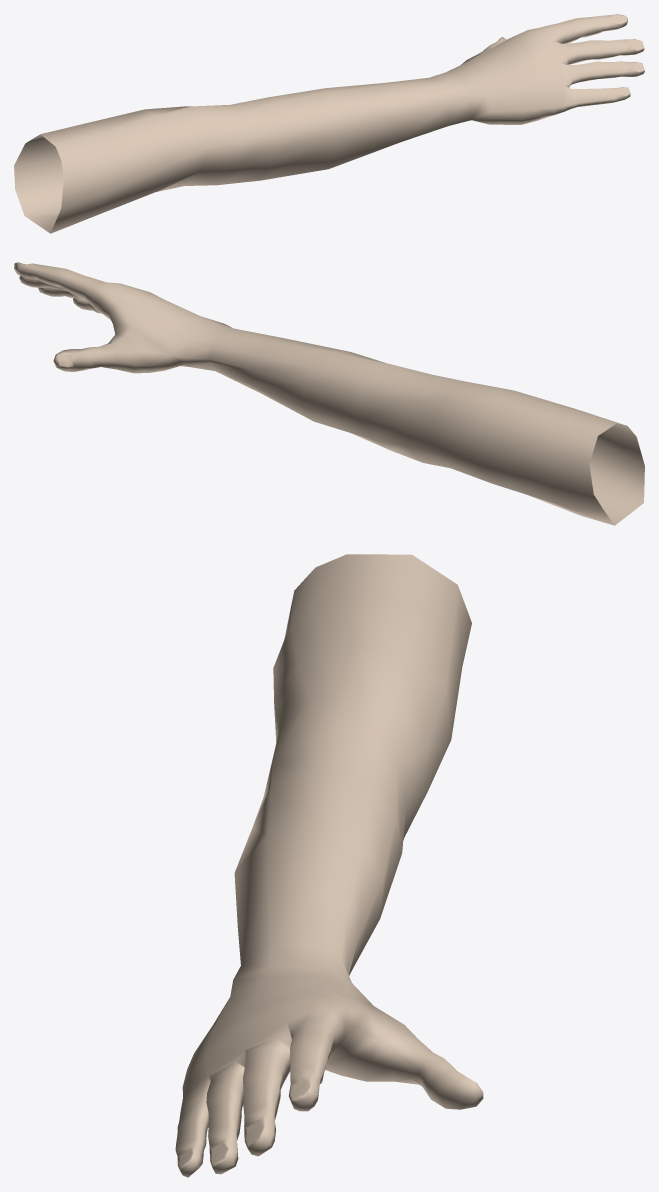
The model's file is right_hand.fbx.
3 renders of one model, top to bottom at view 1: azimuth 30°, elevation 25°; view 2: azimuth 150°, elevation 25°; view 3: azimuth 270°, elevation 25°, orthographic. The views are drawn at different scales.
Parts seen in each view (by area): view 1: Arm1; view 2: Arm1; view 3: Arm1.
Part boxes in pixels (box(x1,y1,x2,y2)): Arm1: box(14, 14, 644, 233); Arm1: box(14, 262, 644, 525); Arm1: box(175, 554, 483, 1177).
Bounding box in the file's own units: 36.16 × 5.24 × 8.31.
